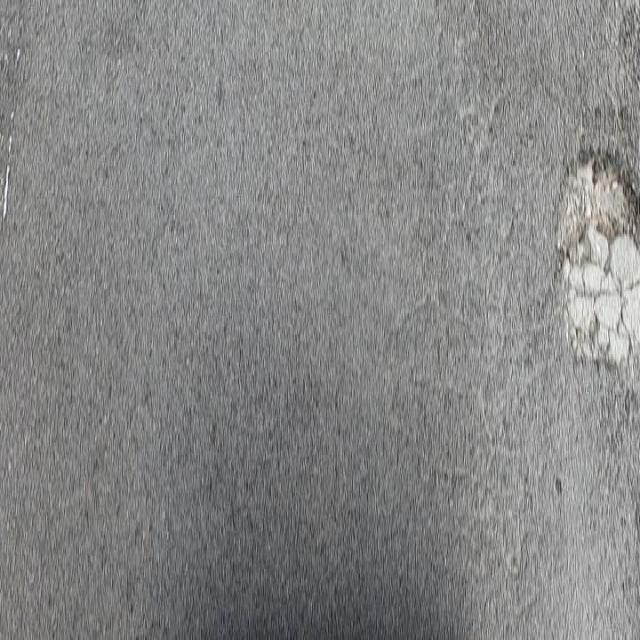potholes: (530, 113, 640, 379)
